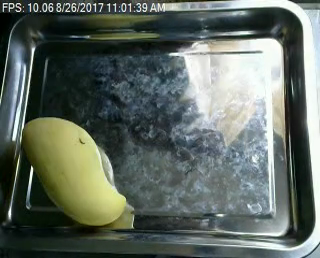Mango: (17, 113, 136, 224)
